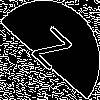Z: (25, 25, 73, 80)
